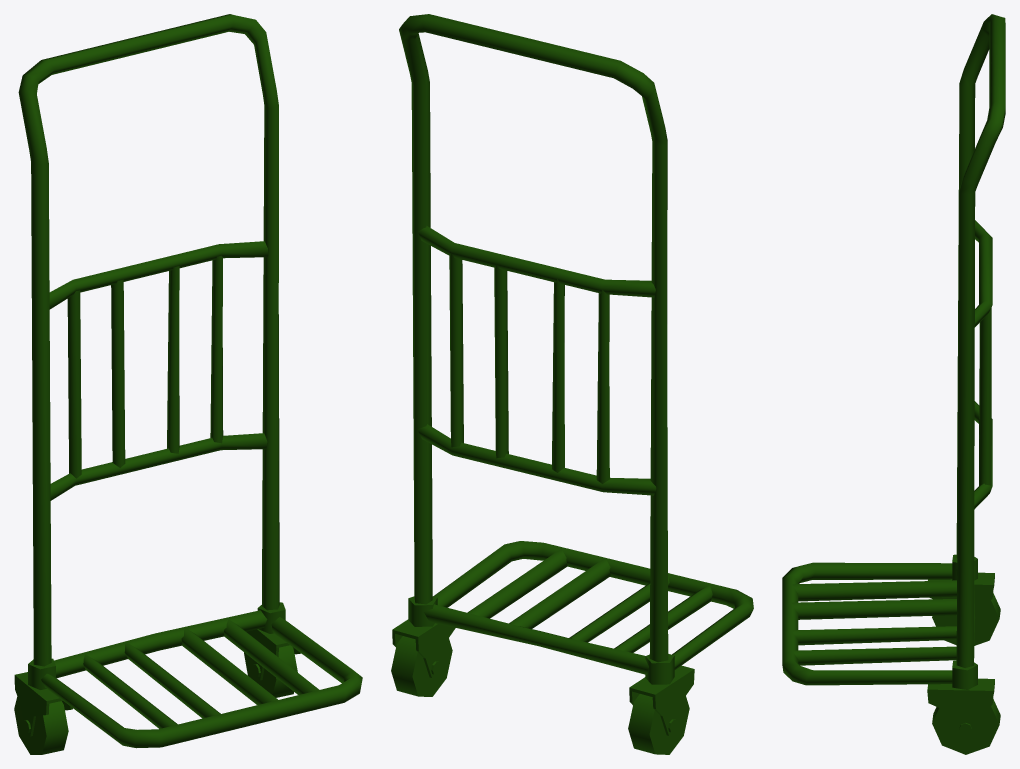
The model's file is Trolleys01.fbx.
3 views of the same model, side by side, from view 1: azimuth 30°, elevation 25°; view 2: azimuth 150°, elevation 25°; view 3: azimuth 270°, elevation 25° (orthographic). The views are drawn at different scales.
Parts seen in each view (by area): view 1: Trolleys01, Trolleys01_W2; view 2: Trolleys01, Trolleys01_W2; view 3: Trolleys01, Trolleys01_W2.
Part boxes in pixels (<box>): Trolleys01: <box>18,14,362,748</box>; Trolleys01_W2: <box>14,602,300,754</box>; Trolleys01: <box>399,14,753,674</box>; Trolleys01_W2: <box>391,596,694,754</box>; Trolleys01: <box>782,14,1005,685</box>; Trolleys01_W2: <box>927,554,1000,754</box>.
Bounding box in the file's own units: 0.1681 × 0.4175 × 0.1325.
